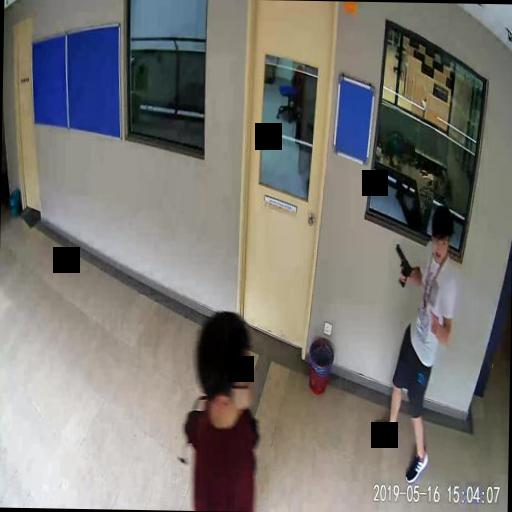Handgun: (394, 244, 412, 286)
